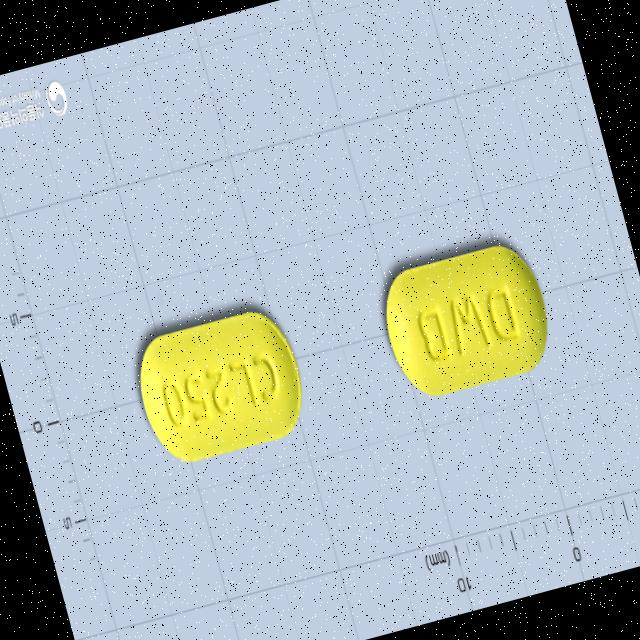Daewoong Clarithromycin: (371, 237, 560, 406), (126, 303, 314, 472)
